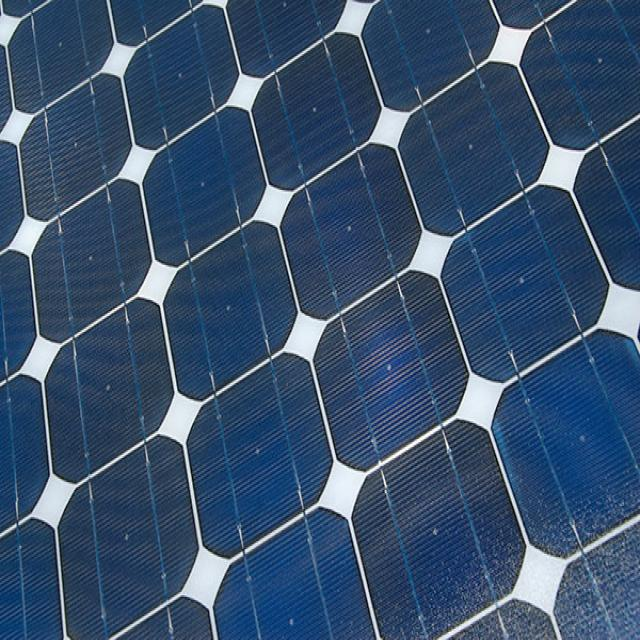clean-solar-panel: (1, 0, 640, 636)
